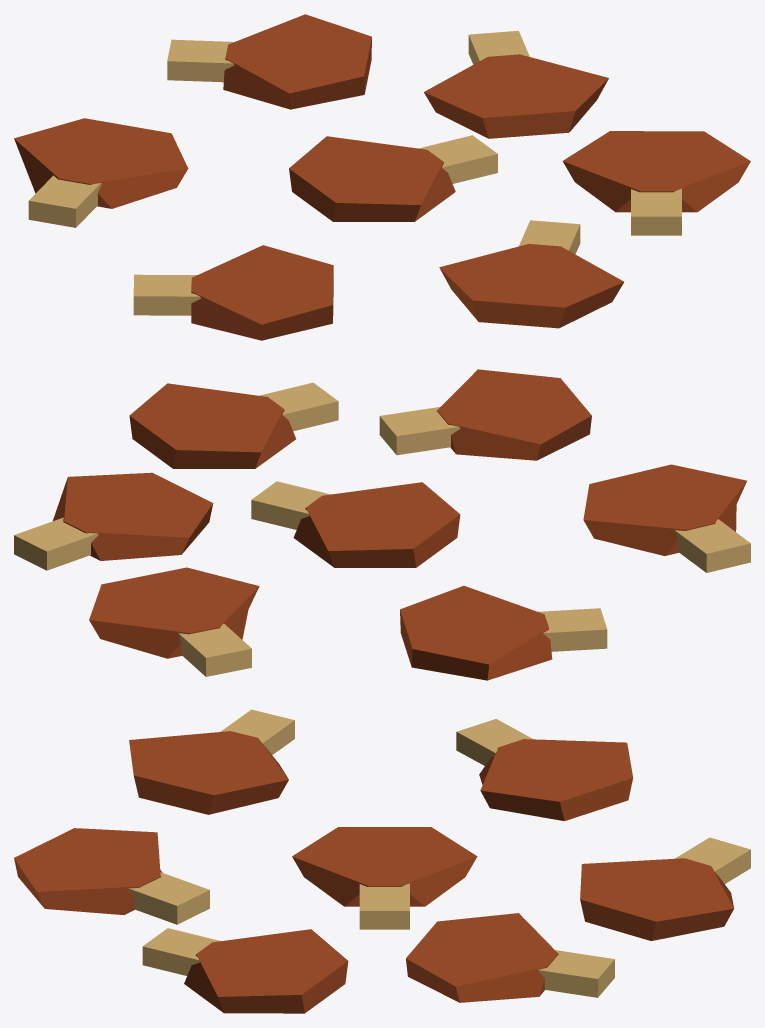
File: mushroomtopping.fbx
The picture shows the model from 3 angles, top to bottom: view 1: azimuth 30°, elevation 25°; view 2: azimuth 150°, elevation 25°; view 3: azimuth 270°, elevation 25°; orthographic projection.
Visible parts, largest first — view 1: Cylinder, Cylinder.004, Cylinder.001, Cylinder.003, Cylinder.002, Cylinder.006, Cylinder.005, Plane.005, Plane.006, Plane.002, Plane.003, Plane (+2 smaller); view 2: Cylinder, Cylinder.003, Cylinder.005, Cylinder.001, Cylinder.004, Cylinder.002, Cylinder.006, Plane.004, Plane.001, Plane.006, Plane.002, Plane.005 (+2 smaller); view 3: Cylinder.003, Cylinder.002, Cylinder, Cylinder.005, Cylinder.006, Cylinder.004, Cylinder.001, Plane.001, Plane.004, Plane, Plane.003, Plane.005 (+2 smaller).
Boxes of the visible parts, x1,y1,x2,y2 form: Cylinder: (289, 136, 455, 221); Cylinder.004: (424, 54, 608, 138); Cylinder.001: (439, 244, 623, 328); Cylinder.003: (562, 131, 750, 212); Cylinder.002: (223, 14, 371, 109); Cylinder.006: (191, 245, 333, 340); Cylinder.005: (14, 118, 188, 208); Plane.005: (28, 175, 101, 227); Plane.006: (133, 274, 200, 315); Plane.002: (167, 39, 234, 82); Plane.003: (631, 188, 681, 235); Plane: (418, 135, 497, 183); Cylinder: (293, 482, 460, 567); Cylinder.003: (129, 383, 295, 468); Cylinder.005: (400, 585, 552, 680); Cylinder.001: (437, 369, 591, 460); Cylinder.004: (53, 472, 213, 560); Cylinder.002: (89, 567, 259, 658); Cylinder.006: (583, 464, 746, 555); Plane.004: (14, 517, 98, 570); Plane.001: (379, 407, 460, 455); Plane.006: (674, 519, 750, 572); Plane.002: (178, 623, 251, 676); Plane.005: (538, 608, 607, 651); Cylinder.003: (184, 929, 348, 1013); Cylinder.002: (580, 858, 734, 940); Cylinder: (292, 827, 477, 906); Cylinder.005: (479, 739, 632, 820); Cylinder.006: (129, 731, 288, 814); Cylinder.004: (406, 913, 558, 1002); Cylinder.001: (14, 828, 162, 914); Plane.001: (128, 872, 209, 924); Plane.004: (538, 950, 614, 997); Plane: (359, 883, 409, 929); Plane.003: (142, 928, 220, 975); Plane.005: (456, 719, 533, 765).
Bounding box in the file's own units: 296 × 10 × 320.
